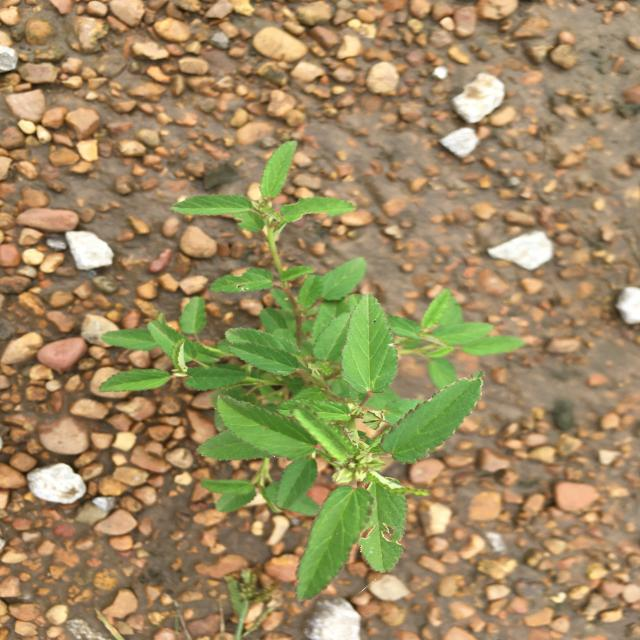PricklySida: (98, 140, 525, 602)
